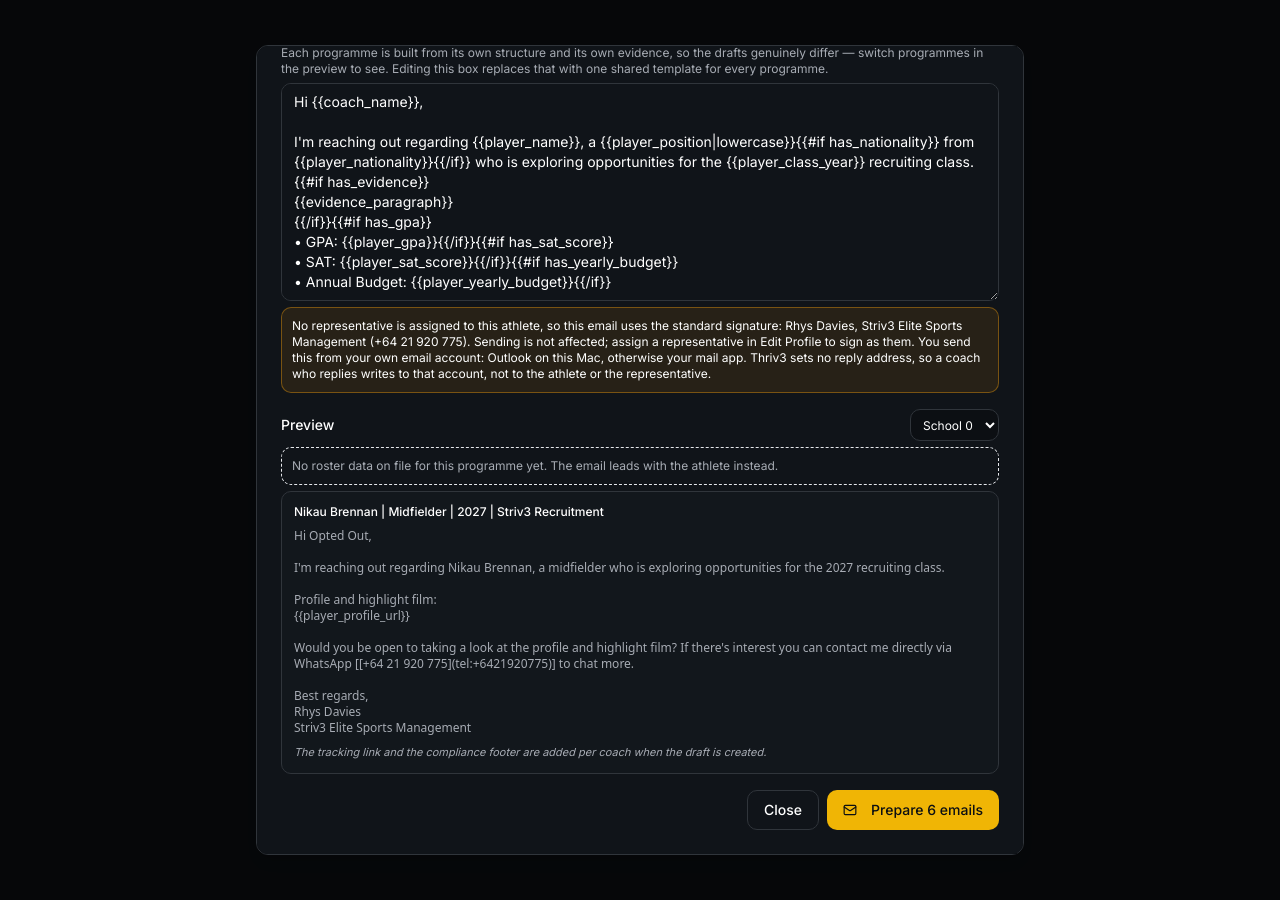
Test: the bulk composer marks every refused recipient and counts them › each refusal type has a word, and the run says how many were not prepared
The width and height of the screenshot is (1280, 900).
(page scrolled)
What coordinates should you click on to do the following:
click the button "Prepare 6 emails"
I would click on:
 (913, 810)
Its box is [827,790,999,830].
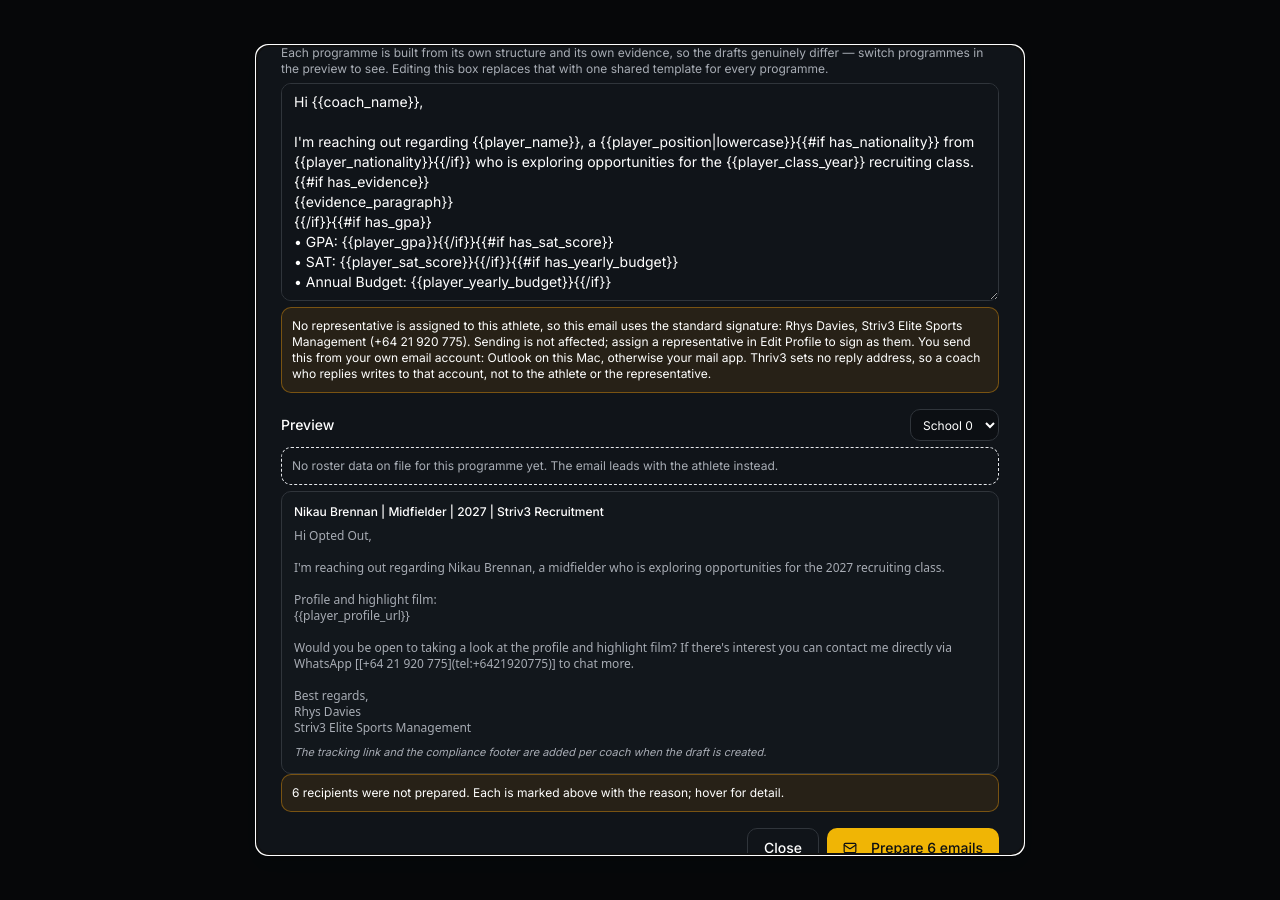
Now the message with test id "bulk-refused-summary" shows "6 recipients were not prepared", box [281,774,999,812]
